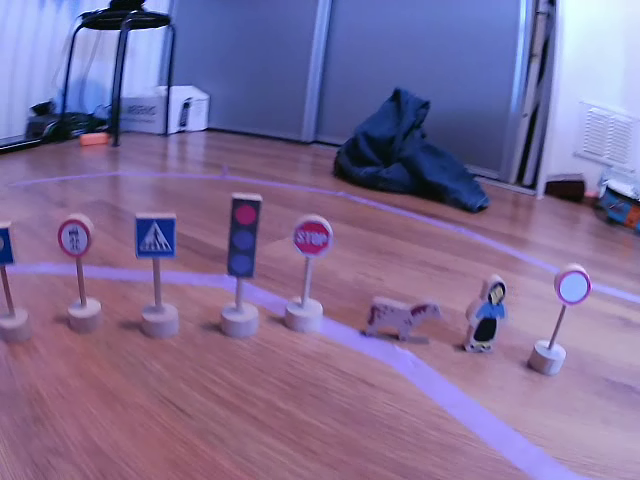fietspad: (60, 218, 90, 258)
mens: (464, 276, 510, 349)
paard: (365, 301, 441, 335)
roodlicht: (225, 197, 262, 277)
stopbord: (294, 219, 330, 256)
wegdicht: (557, 268, 591, 304)
zebrapad: (136, 216, 176, 260)
